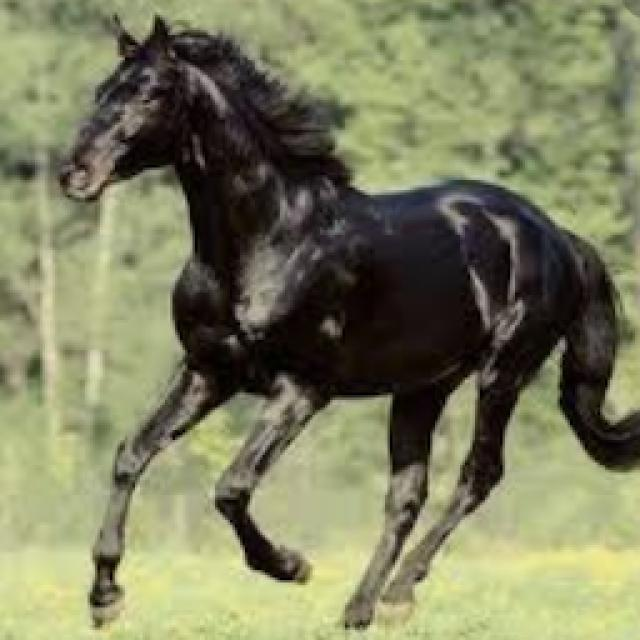Horse: (48, 7, 638, 635)
